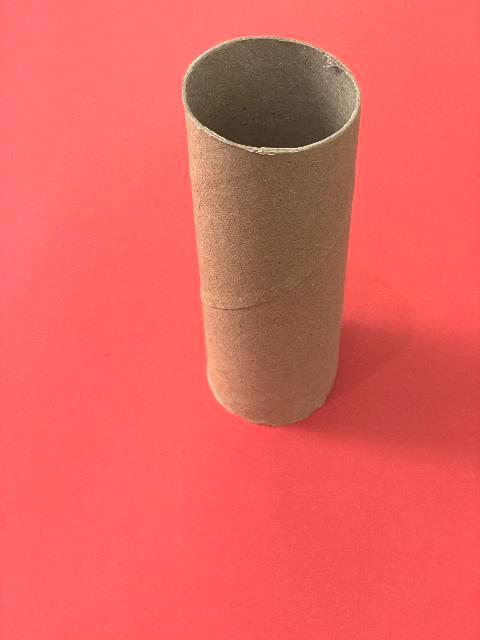tissueroll: (182, 35, 362, 428)
